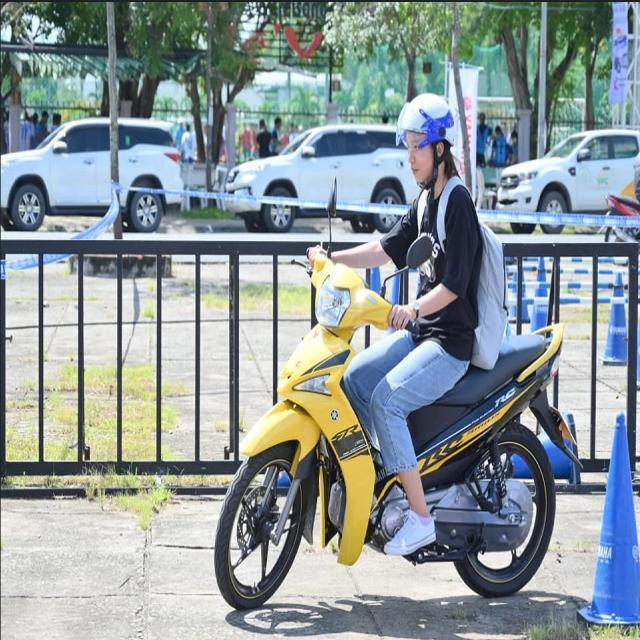car: (1, 114, 201, 247), (218, 120, 422, 249), (491, 121, 640, 240)
motorcycle: (208, 237, 585, 614)
